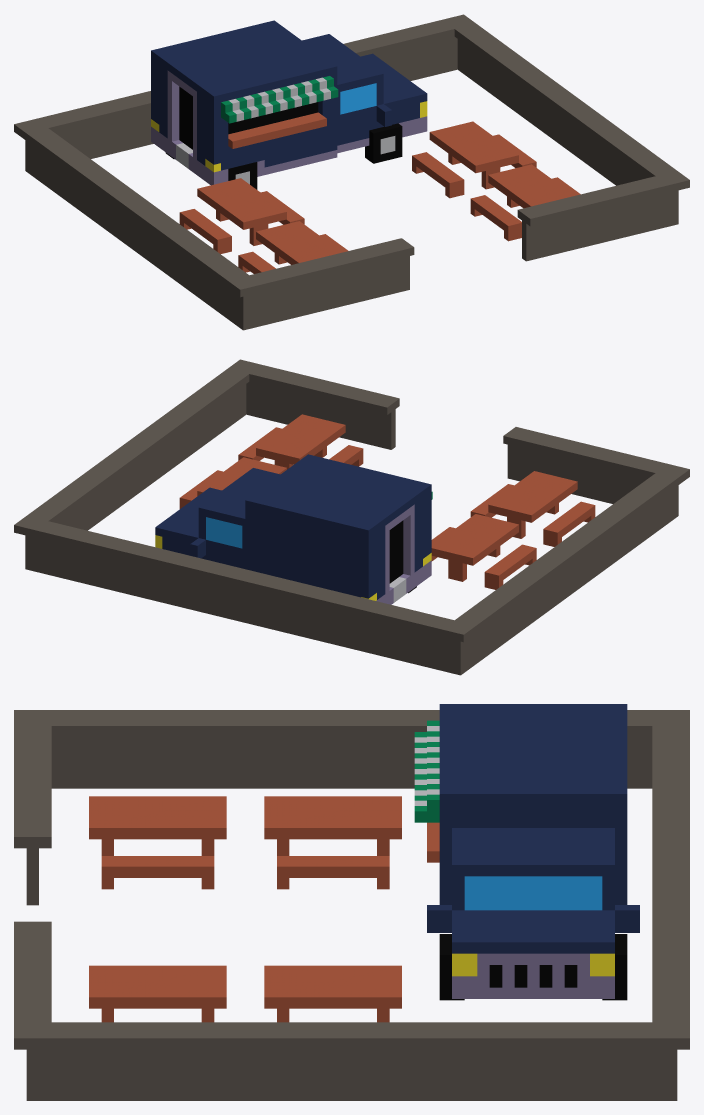
Rendered from foodtruck_spot_a.obj.
3 views of the same model, one above another, from view 1: azimuth 30°, elevation 25°; view 2: azimuth 150°, elevation 25°; view 3: azimuth 270°, elevation 25° (orthographic). The views are drawn at different scales.
Bounding box in the file's own units: 6.2 × 1.4 × 5.4.
Materials: 1 (1 with a texture image).
